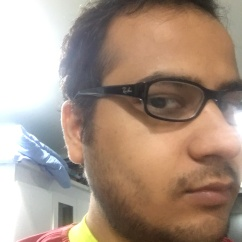glasses: (79, 85, 241, 124)
